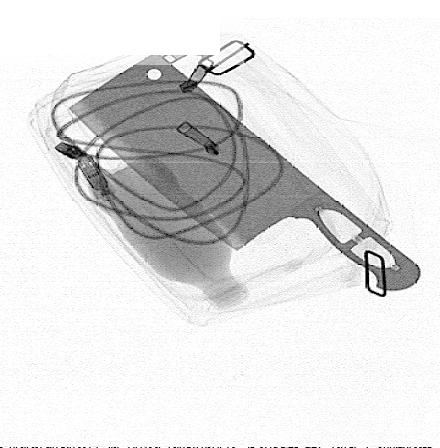Knife: (65, 52, 421, 291)
